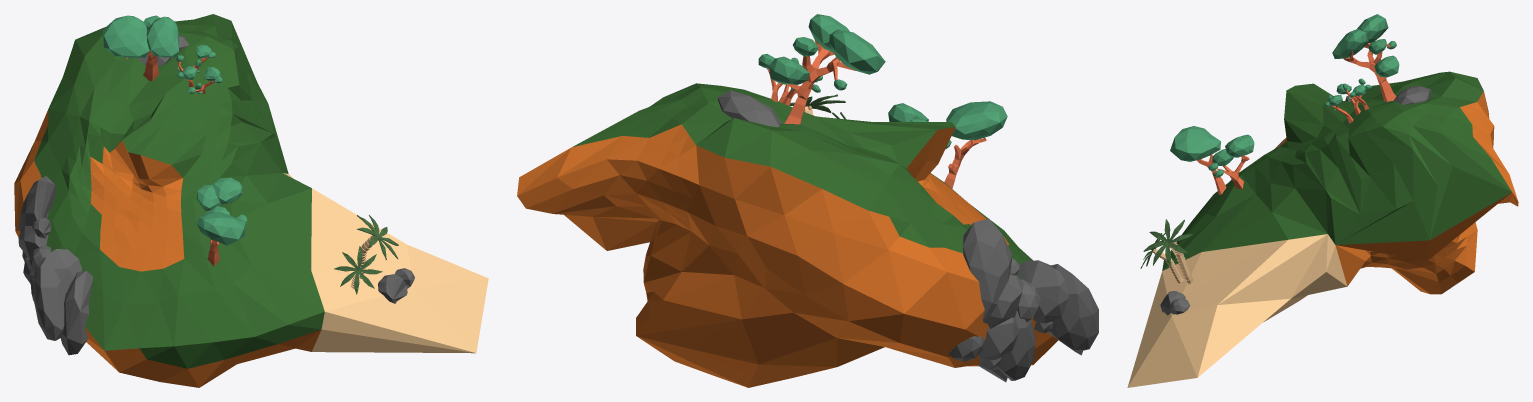
Rendered from Isla6.fbx.
3 views of the same model, side by side, from view 1: azimuth 30°, elevation 25°; view 2: azimuth 150°, elevation 25°; view 3: azimuth 270°, elevation 25° (orthographic). The views are drawn at different scales.
Visible parts, largest first — view 1: Icosphere.003; view 2: Icosphere.003; view 3: Icosphere.003.
Part boxes in pixels (left/top/right/bottom): Icosphere.003: left=14, top=14, right=488, bottom=387; Icosphere.003: left=517, top=14, right=1098, bottom=387; Icosphere.003: left=1127, top=14, right=1518, bottom=387.
Bounding box in the file's own units: 13.75 × 9.64 × 12.28.
